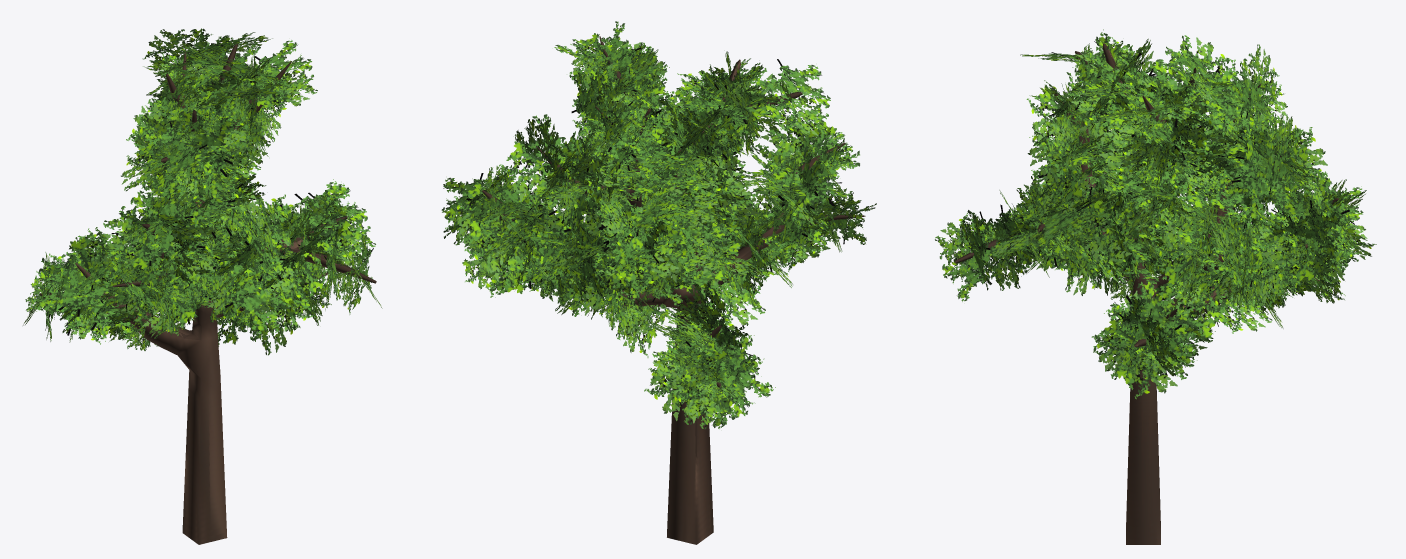
Rendered from Tree.obj.
The picture shows the model from 3 angles, left to right: view 1: azimuth 30°, elevation 25°; view 2: azimuth 150°, elevation 25°; view 3: azimuth 270°, elevation 25°; orthographic projection. The views are drawn at different scales.
Parts seen in each view (by area): view 1: Plane.001, Plane; view 2: Plane.001, Plane; view 3: Plane.001, Plane.
Part boxes in pixels (box(x1,y1,x2,y2)): Plane.001: box(23, 28, 382, 355); Plane: box(39, 38, 376, 544); Plane.001: box(441, 21, 876, 429); Plane: box(482, 36, 865, 544); Plane.001: box(935, 29, 1376, 399); Plane: box(954, 43, 1338, 544).
Size of the model in its own units: 3.11 by 5 by 4.09.
Materials: 2 (2 with a texture image).
